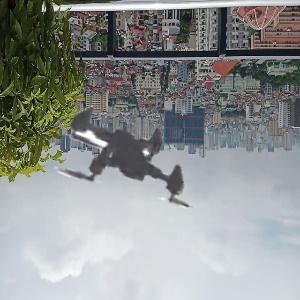drone: (2, 17, 257, 272)
